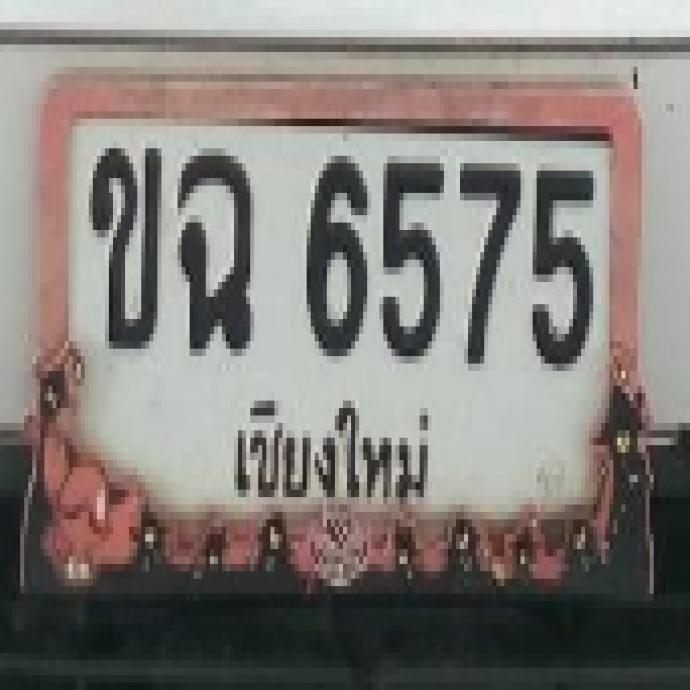5: (377, 153, 439, 357), (528, 162, 590, 363)
6: (302, 149, 363, 348)
7: (455, 155, 516, 363)
A02: (87, 140, 158, 342)
A09: (174, 141, 250, 349)
CMI: (219, 385, 442, 515)
